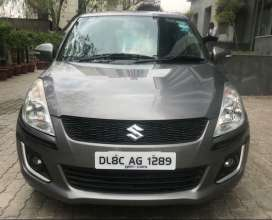nameplate: (95, 152, 176, 169)
